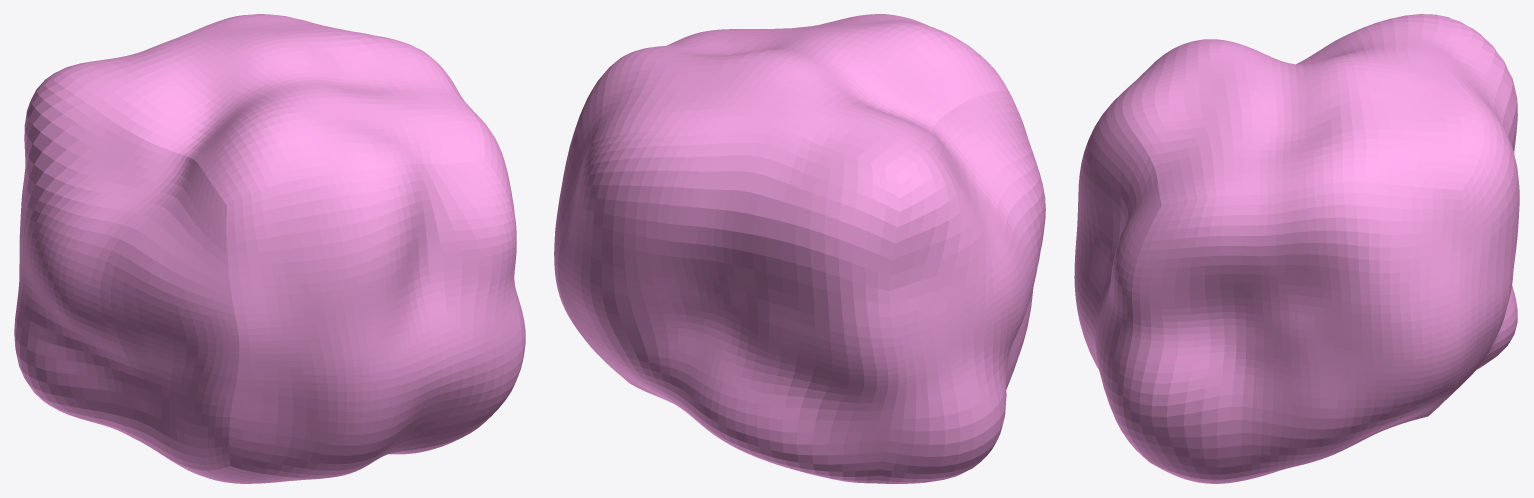
Rendered from chewed gum.fbx.
3 views of the same model, side by side, from view 1: azimuth 30°, elevation 25°; view 2: azimuth 150°, elevation 25°; view 3: azimuth 270°, elevation 25° (orthographic). The views are drawn at different scales.
Visible parts, largest first — view 1: Cube; view 2: Cube; view 3: Cube.
Part boxes in pixels (left/top/right/bottom): Cube: left=14, top=14, right=525, bottom=483; Cube: left=554, top=14, right=1045, bottom=483; Cube: left=1074, top=14, right=1519, bottom=483.
Size of the model in its own units: 459 by 407 by 435.
